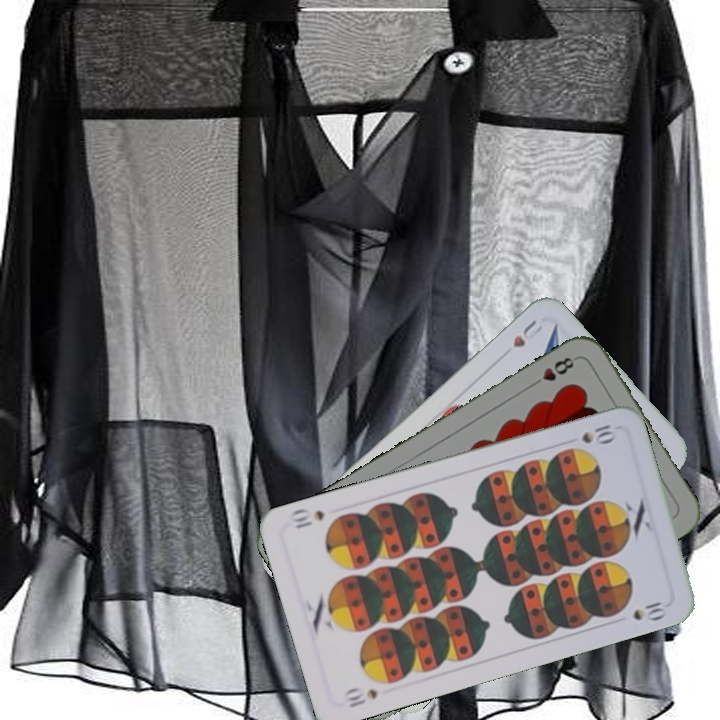H8: (527, 352, 579, 390)
HU: (508, 315, 546, 351)
S10: (340, 683, 381, 710), (577, 420, 616, 446)
